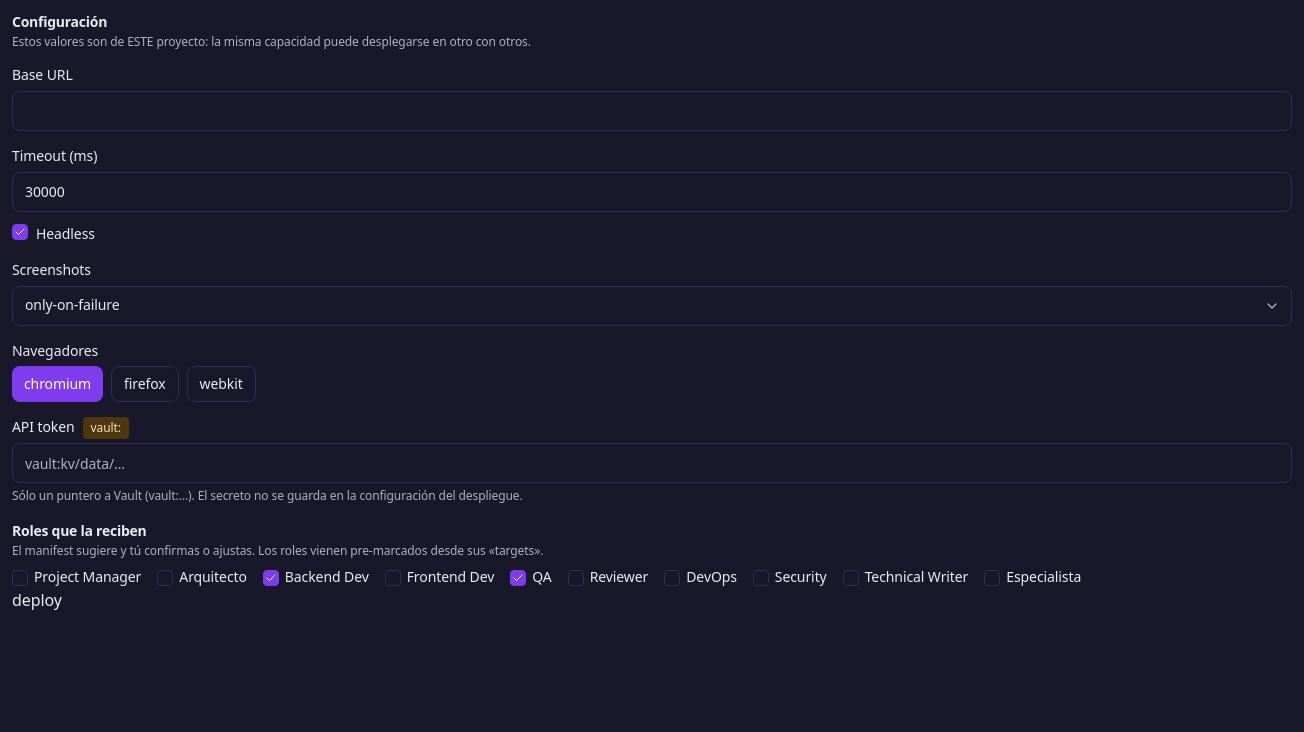
Test: DeploymentConfigForm › bloquea el submit con los errores del esquema visibles
expect the button with test id "dep-submit" is enabled: met, box [12,588,62,613]
// Desmarcar el único navegador incumple `minItems: 1`.
Click the button with test id "dep-item-browsers-chromium" at coordinates (58, 384), box [12,366,103,402]
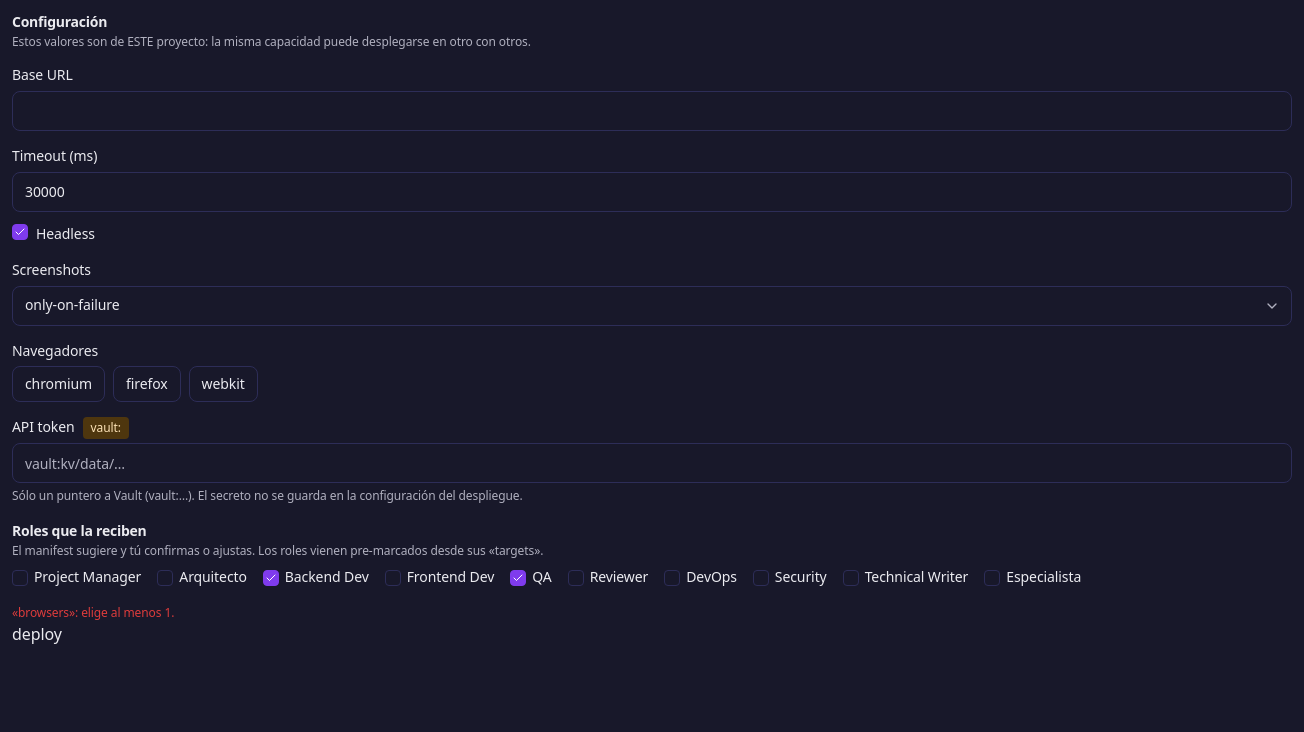
expect the list with test id "dep-errors" shows "browsers": met, box [12,604,174,621]
expect the button with test id "dep-submit" is disabled: met, box [12,622,62,646]
// Y un entero por debajo del mínimo.
Click the button with test id "dep-item-browsers-chromium" at coordinates (58, 384), box [12,366,105,402]
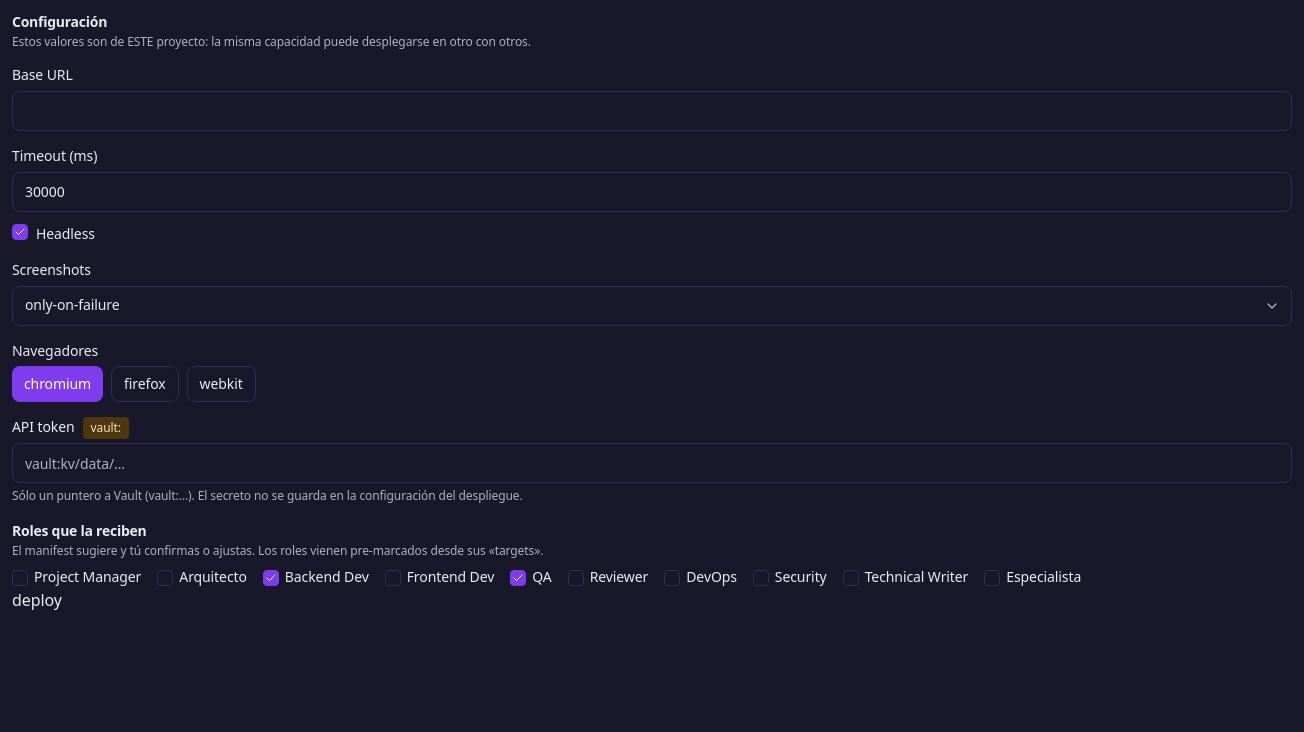
Replace the text in the number field with test id "dep-field-timeout_ms" with "0" at coordinates (652, 192), box [12,172,1292,212]
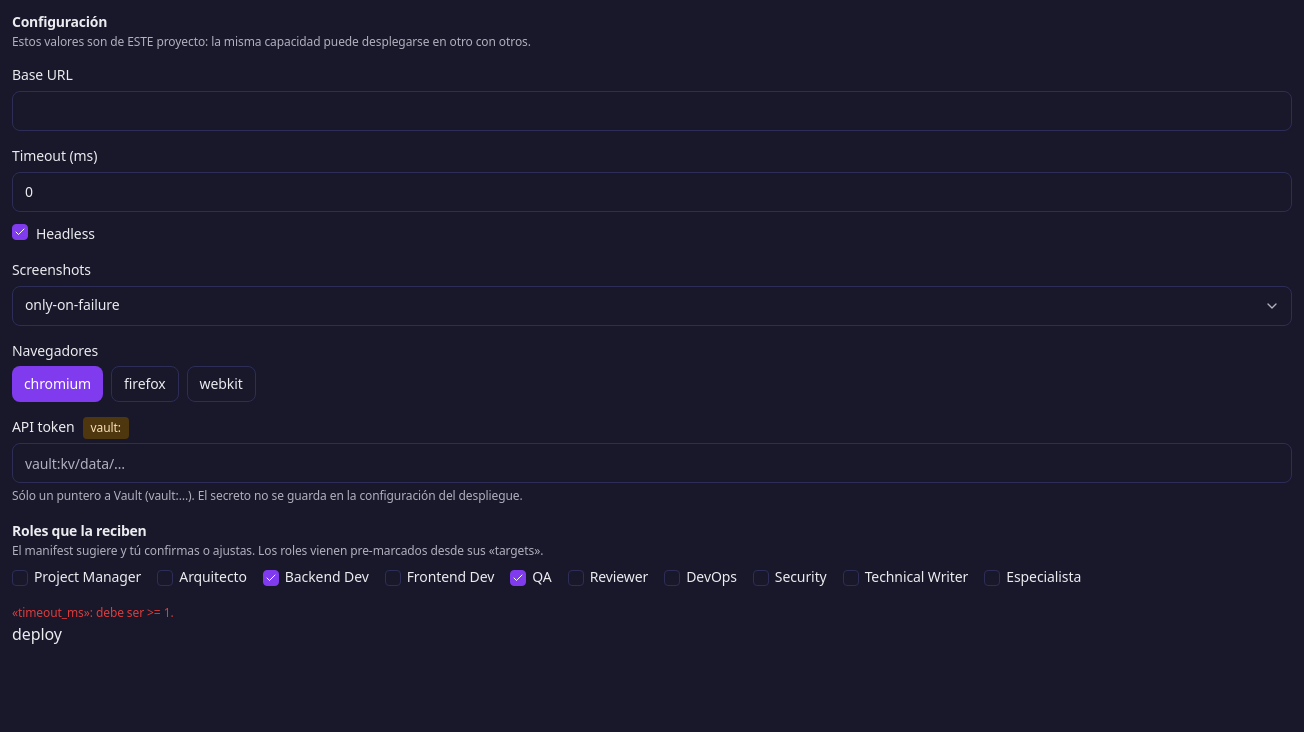
expect the list with test id "dep-errors" shows "timeout_ms": met, box [12,604,174,621]
expect the button with test id "dep-submit" is disabled: met, box [12,622,62,646]
